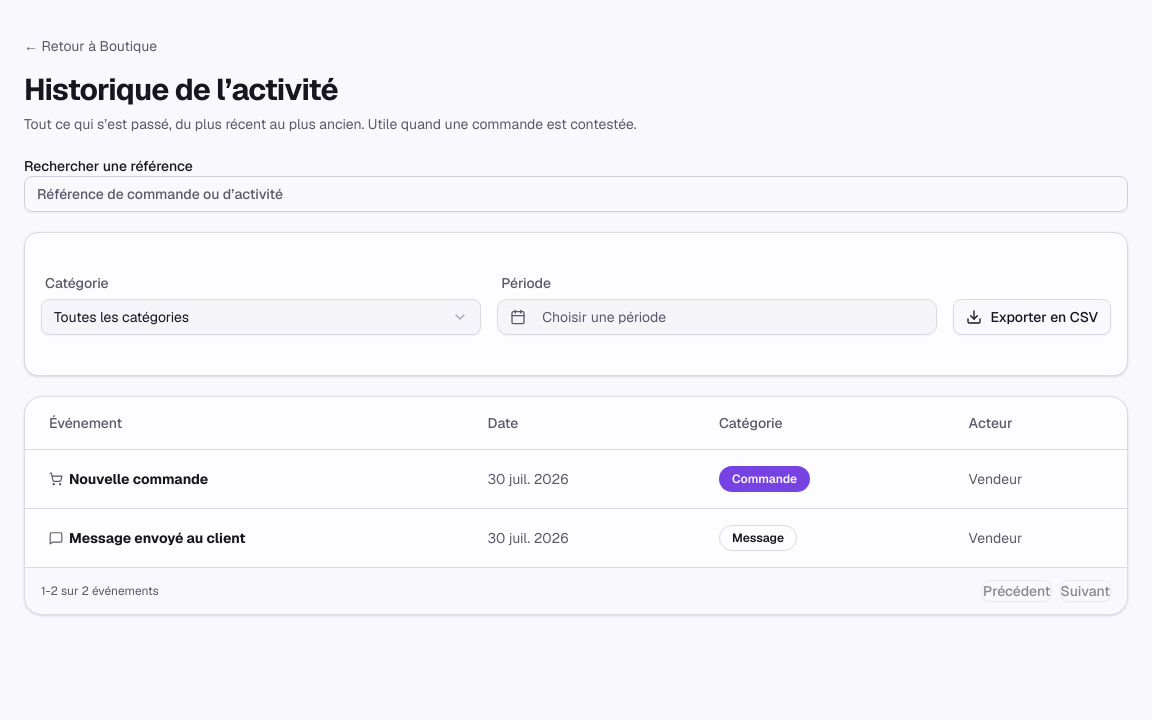
Test case: AuditTrailContent › filtre par catégorie › ne garde que les événements de la catégorie choisie
Expected: the text "Nouvelle commande" is shown, [49,470,208,488]
Expected: the text "Message envoyé au client" is shown, [49,529,246,547]
Click the dropdown labelled "Toutes les catégories" at point(121, 317), box [41,299,481,335]
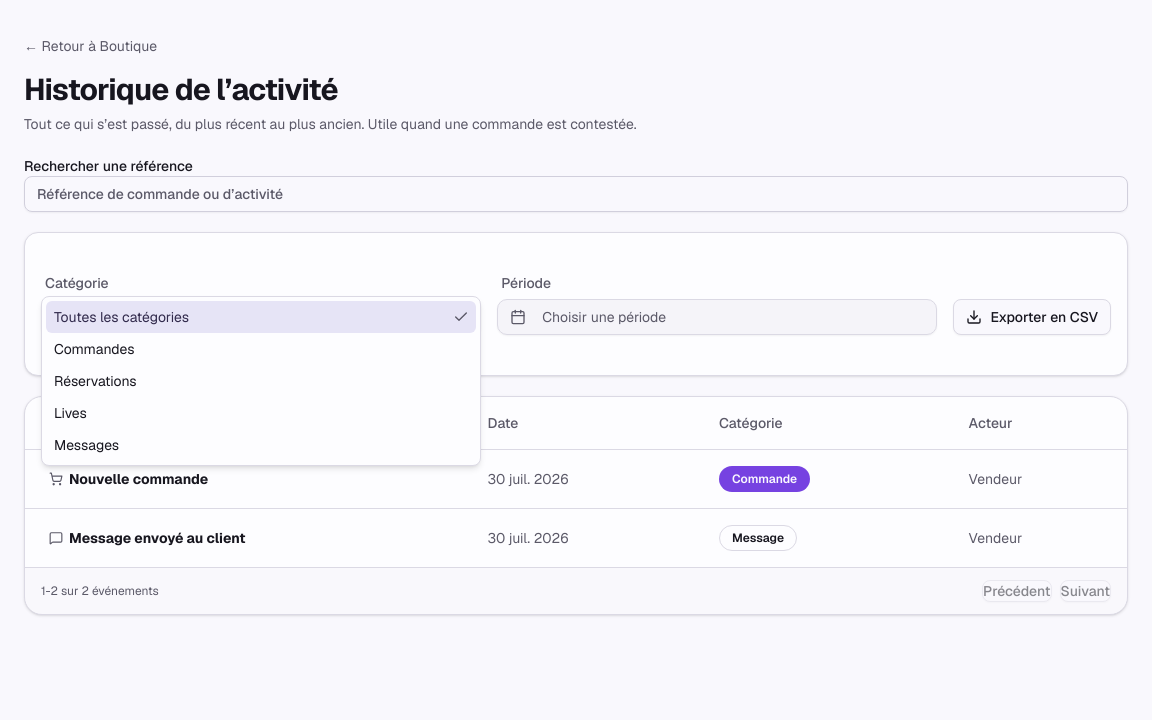
Click the option "Messages" at point(87, 445), box [54,436,119,454]
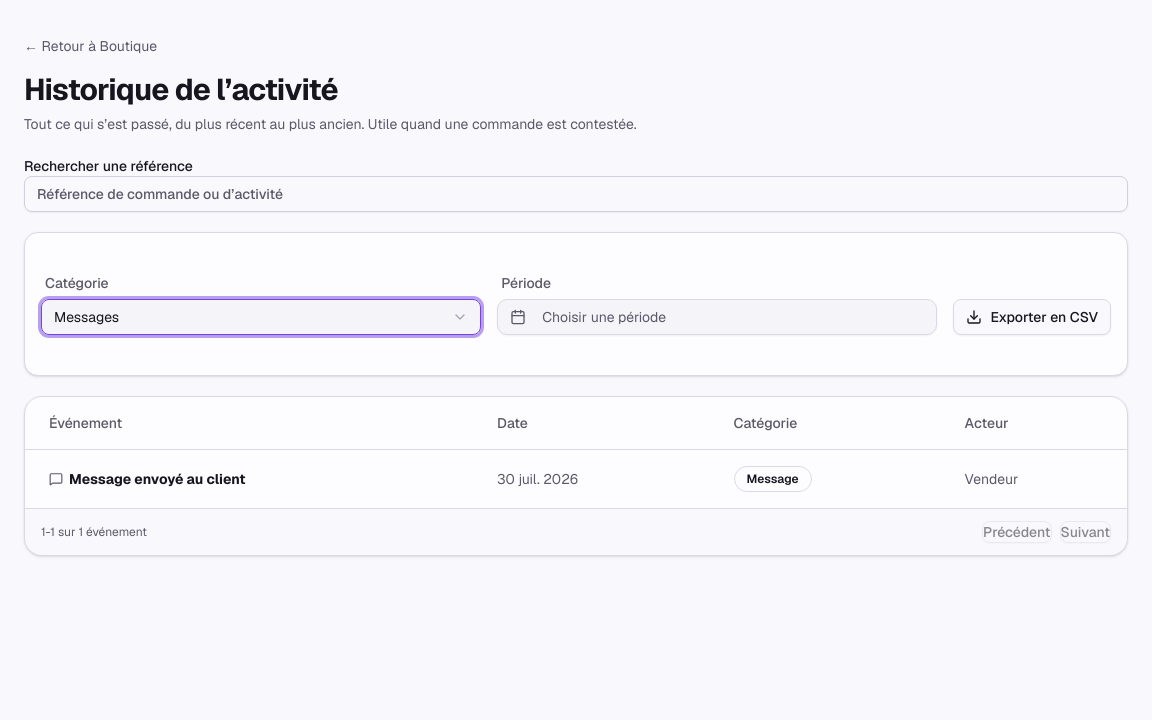
Expected: the text "Message envoyé au client" is shown, [49,470,246,488]
Expected: the text "Nouvelle commande" is gone
